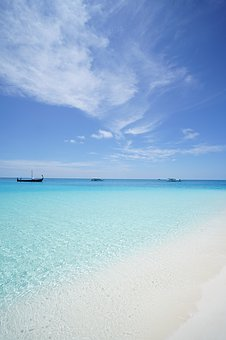beach: (4, 175, 220, 340)
sky: (4, 1, 225, 175)
